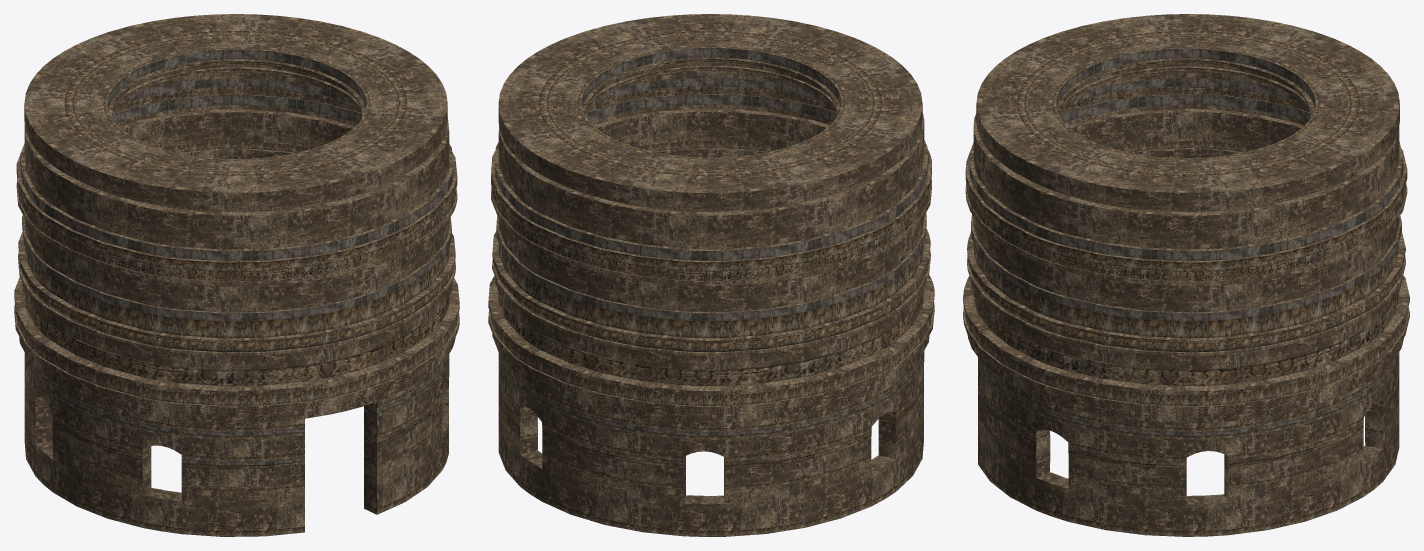
The model's file is materials_5_building_15.fbx.
3 renders of one model, left to right at view 1: azimuth 30°, elevation 25°; view 2: azimuth 150°, elevation 25°; view 3: azimuth 270°, elevation 25°, orthographic.
Visible parts, largest first — view 1: materials_5_building_15; view 2: materials_5_building_15; view 3: materials_5_building_15.
Boxes of the visible parts, bbox=[...] form: materials_5_building_15: bbox=[14, 14, 459, 536]; materials_5_building_15: bbox=[488, 14, 934, 536]; materials_5_building_15: bbox=[963, 14, 1409, 536].
Bounding box in the file's own units: 695 × 589 × 694.
